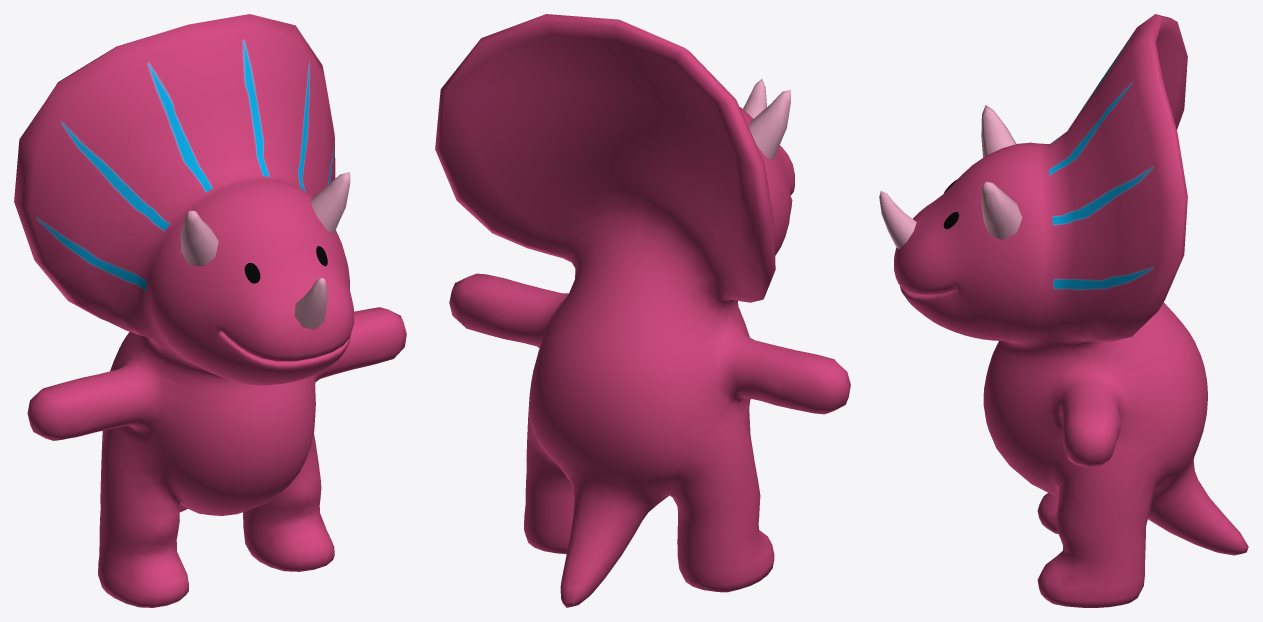
The model's file is Mochi 5.glb.
3 renders of one model, left to right at view 1: azimuth 30°, elevation 25°; view 2: azimuth 150°, elevation 25°; view 3: azimuth 270°, elevation 25°, orthographic. The views are drawn at different scales.
Visible parts, largest first — view 1: Mochi 5; view 2: Mochi 5; view 3: Mochi 5.
Part boxes in pixels (x1,y1,x2,y2): Mochi 5: (14, 14, 406, 607); Mochi 5: (435, 14, 850, 607); Mochi 5: (879, 14, 1248, 607).
Bounding box in the file's own units: 3.87 × 5.21 × 3.35.
Materials: 3 (2 with a texture image).
